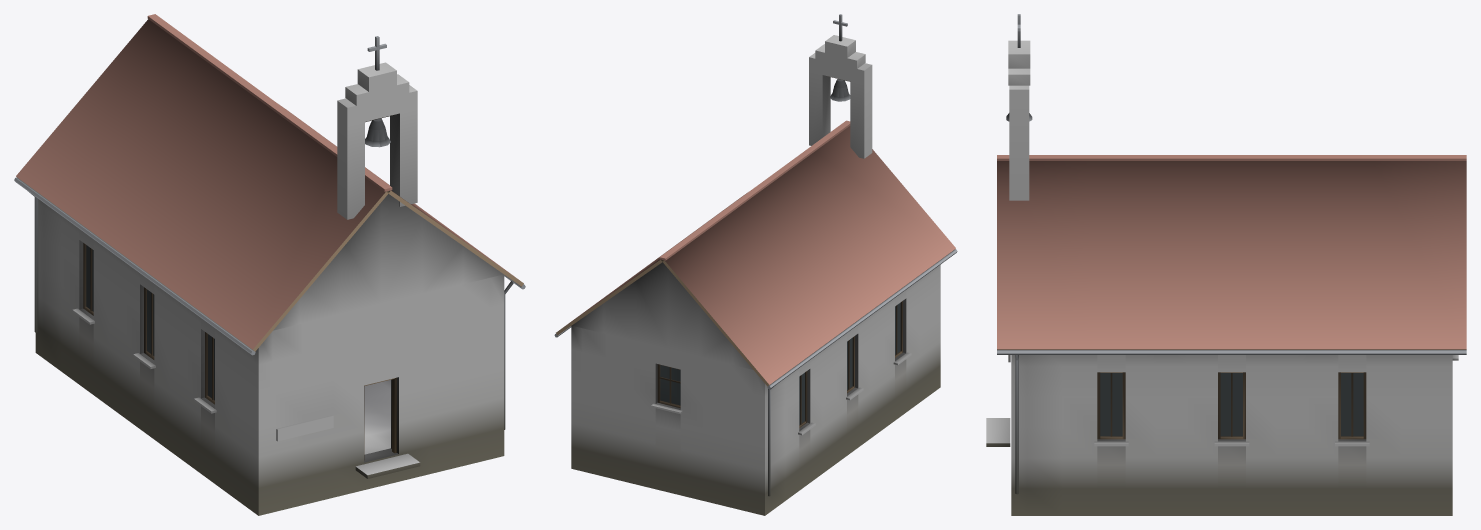
Rendered from chapel.glb.
3 renders of one model, left to right at view 1: azimuth 30°, elevation 25°; view 2: azimuth 150°, elevation 25°; view 3: azimuth 270°, elevation 25°, orthographic. The views are drawn at different scales.
Visible parts, largest first — view 1: chapel; view 2: chapel; view 3: chapel.
Part boxes in pixels (left/top/right/bottom): chapel: left=14, top=14, right=525, bottom=515; chapel: left=554, top=14, right=957, bottom=515; chapel: left=986, top=14, right=1466, bottom=515.
Size of the model in its own units: 7.83 by 12.15 by 11.97.
